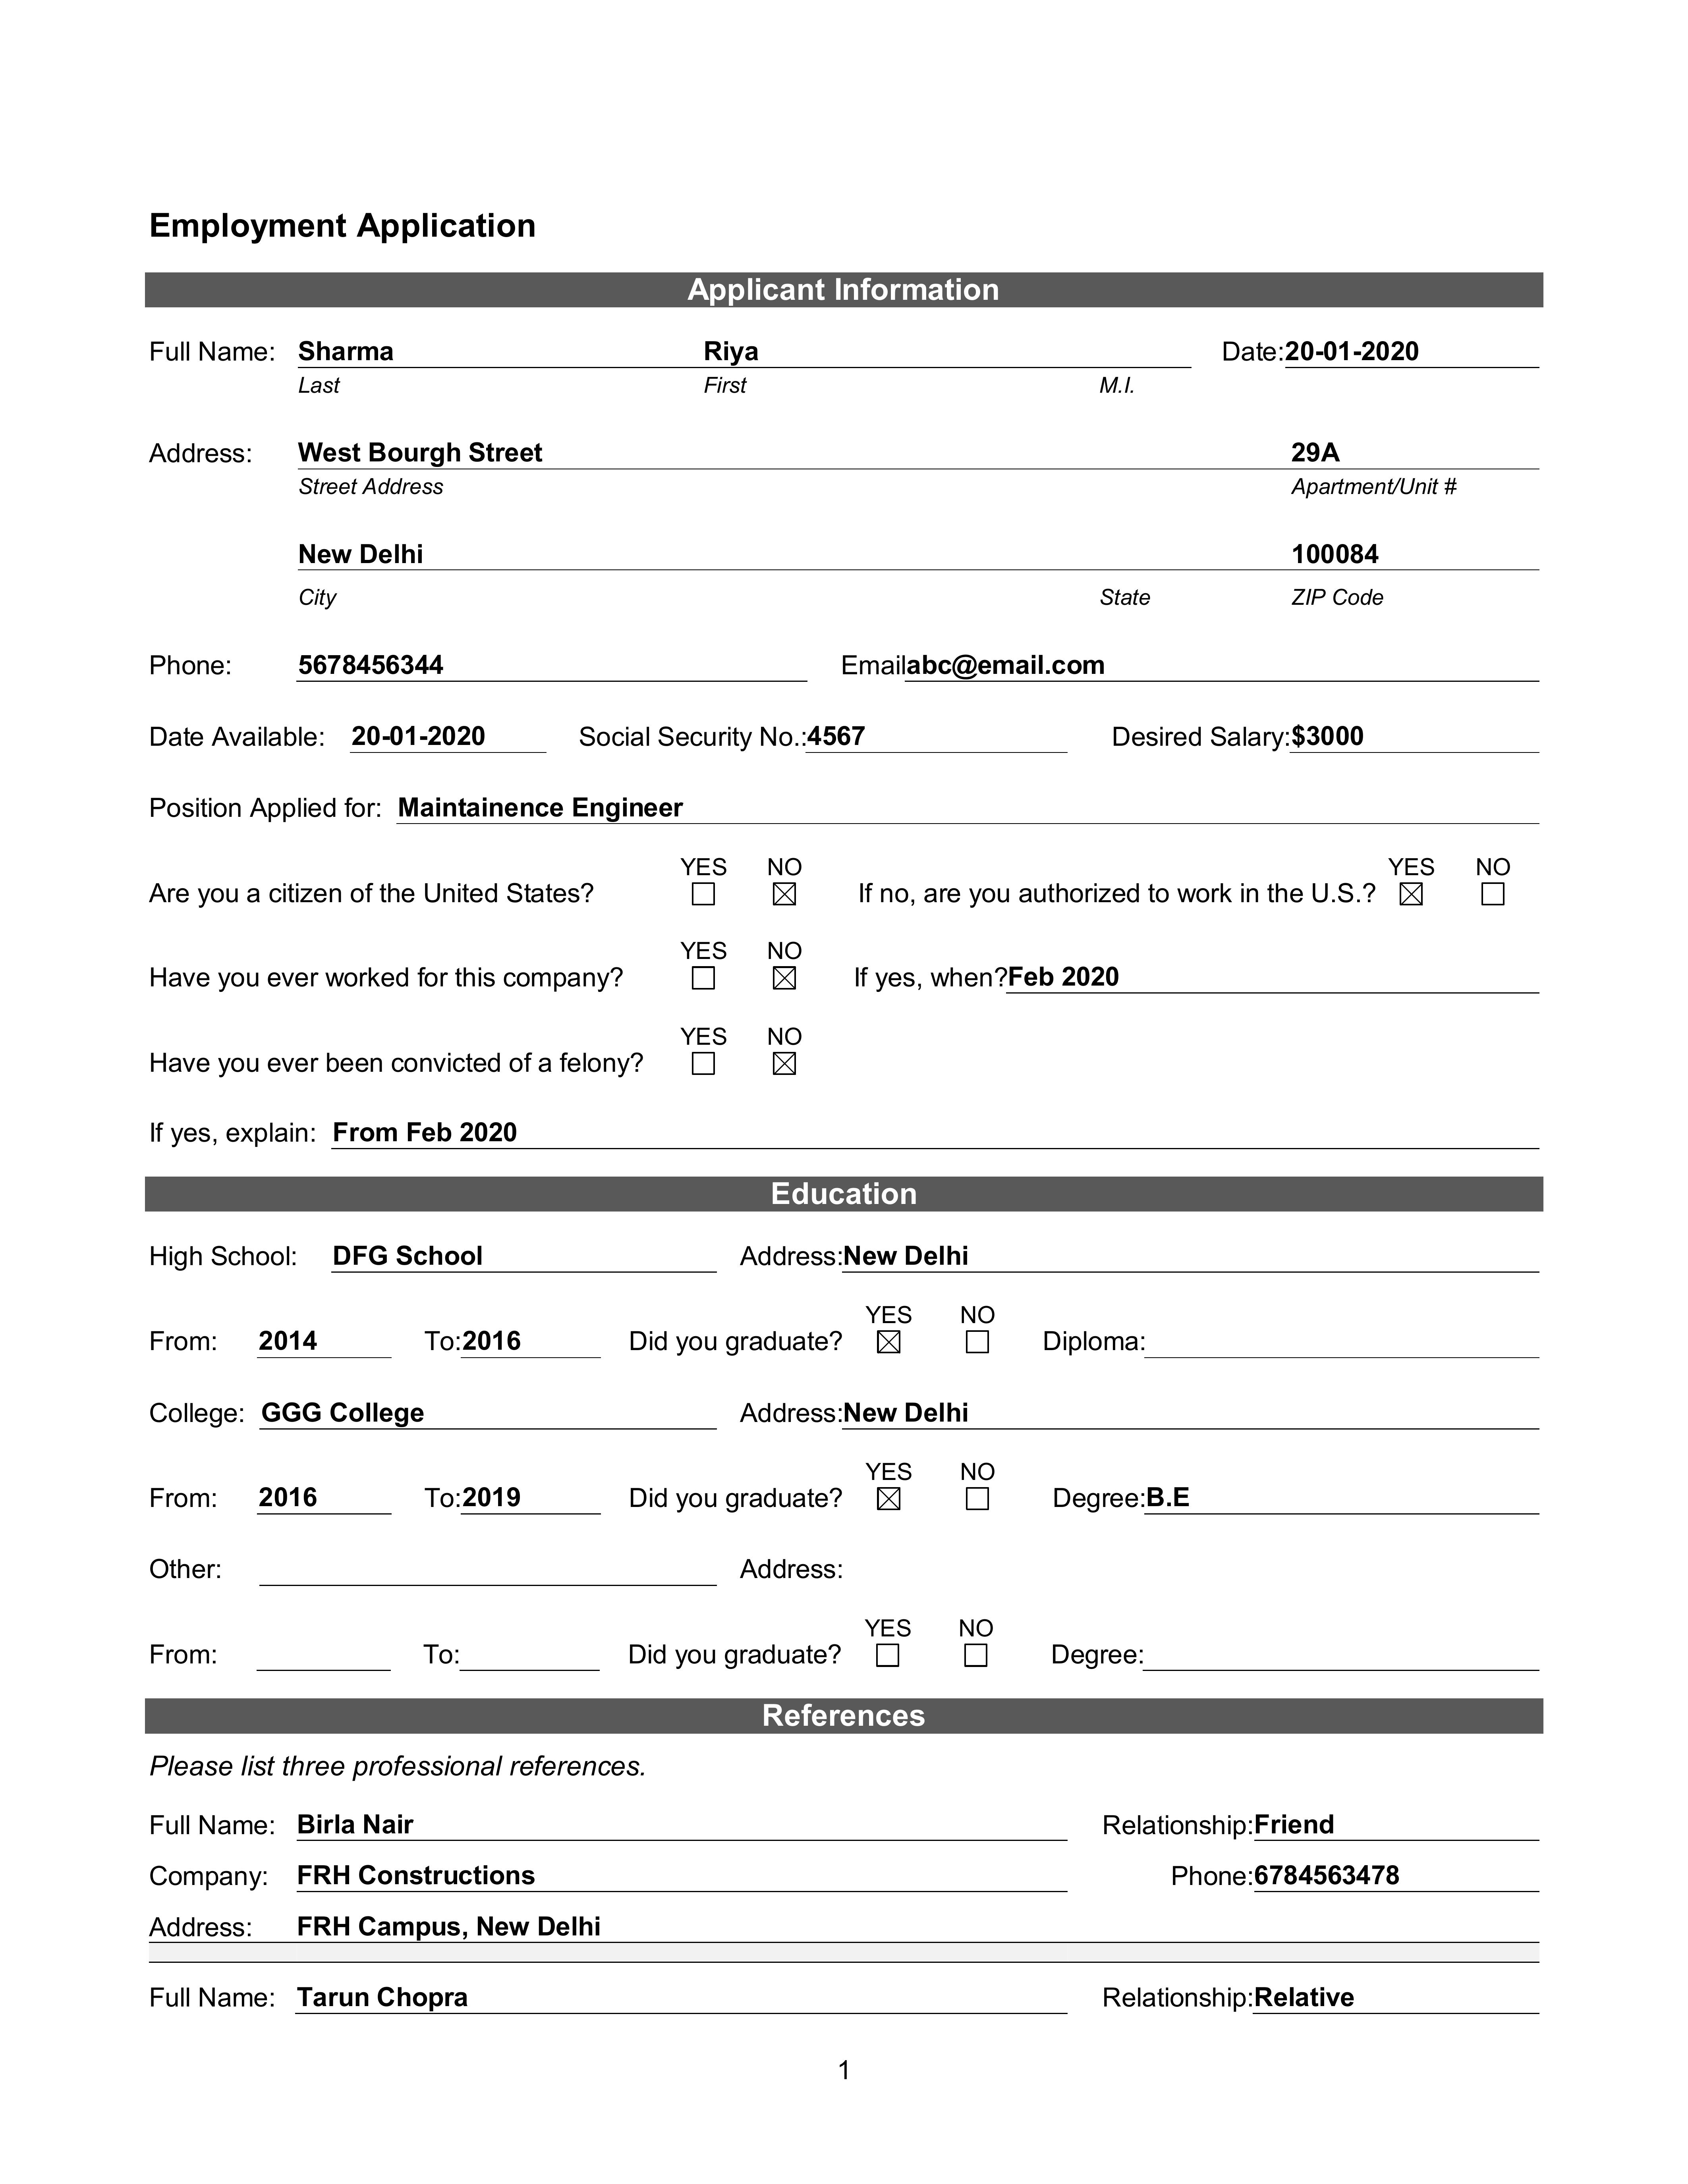table: (145, 275, 1543, 1147), (144, 1181, 1543, 1673), (145, 1704, 1548, 2017)
